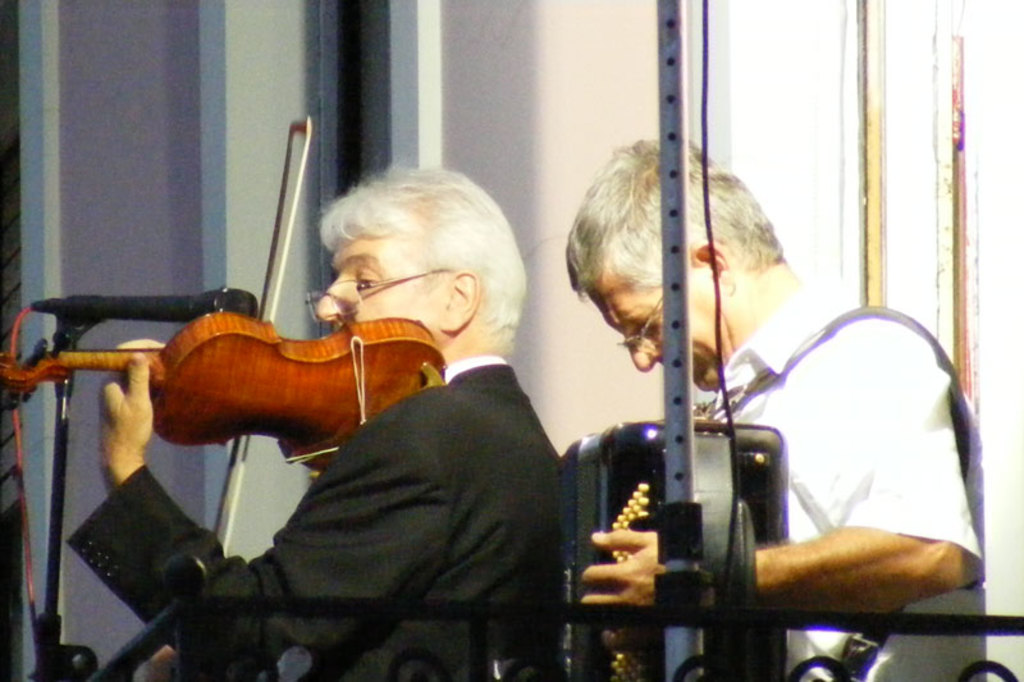Person: (65, 158, 564, 682), (565, 137, 989, 681)
